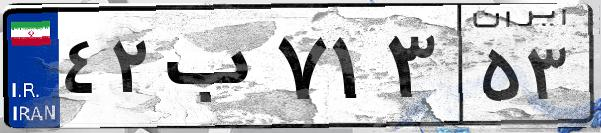1: (330, 28, 385, 110)
2: (110, 28, 158, 98)
3: (385, 28, 445, 110), (525, 38, 570, 115)
4: (57, 26, 110, 100)
5: (475, 38, 525, 113)
7: (270, 28, 330, 110)
ب: (158, 20, 270, 120)
